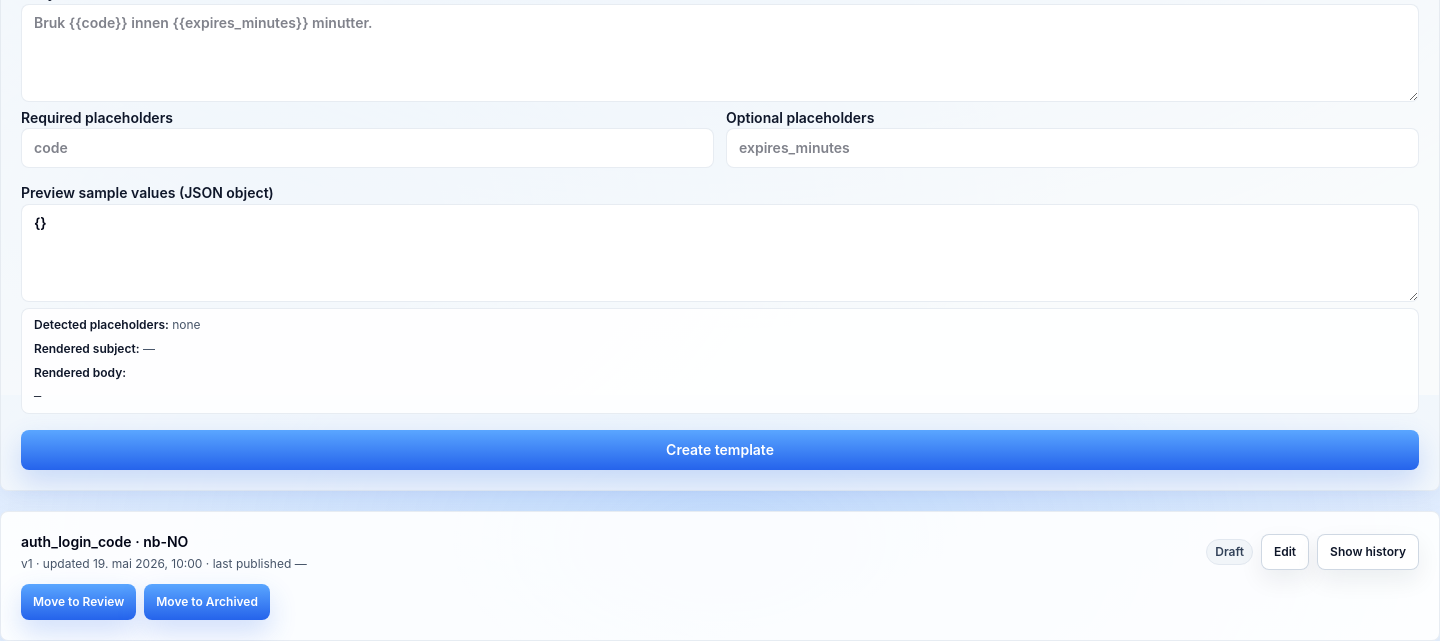
Test case: AdminEmailTemplatesManager state rendering › keeps revision-history error retry wired to the original history loader
The width and height of the screenshot is (1440, 641).
(page scrolled)
Expected: the text "auth_login_code · nb-NO" is shown, [21, 532, 188, 550]
Click the button "Show history".
click(1368, 552)  # box [1317, 534, 1419, 570]
(page scrolled)
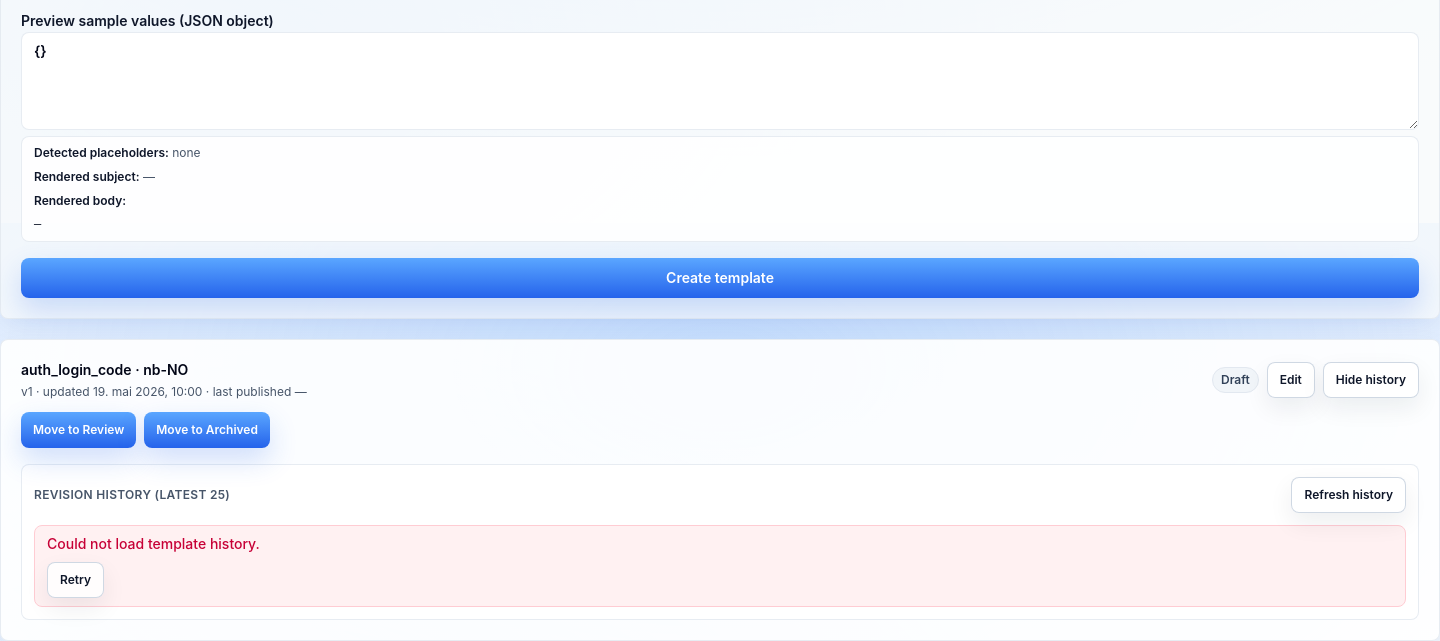
Expected: the message "Could not load template history. Retry" is shown, [34, 524, 1406, 606]
Expected: the message shows "Could not load template history.", [47, 534, 260, 552]
Click the button "Retry".
click(76, 580)  # box [47, 562, 104, 598]
(page scrolled)
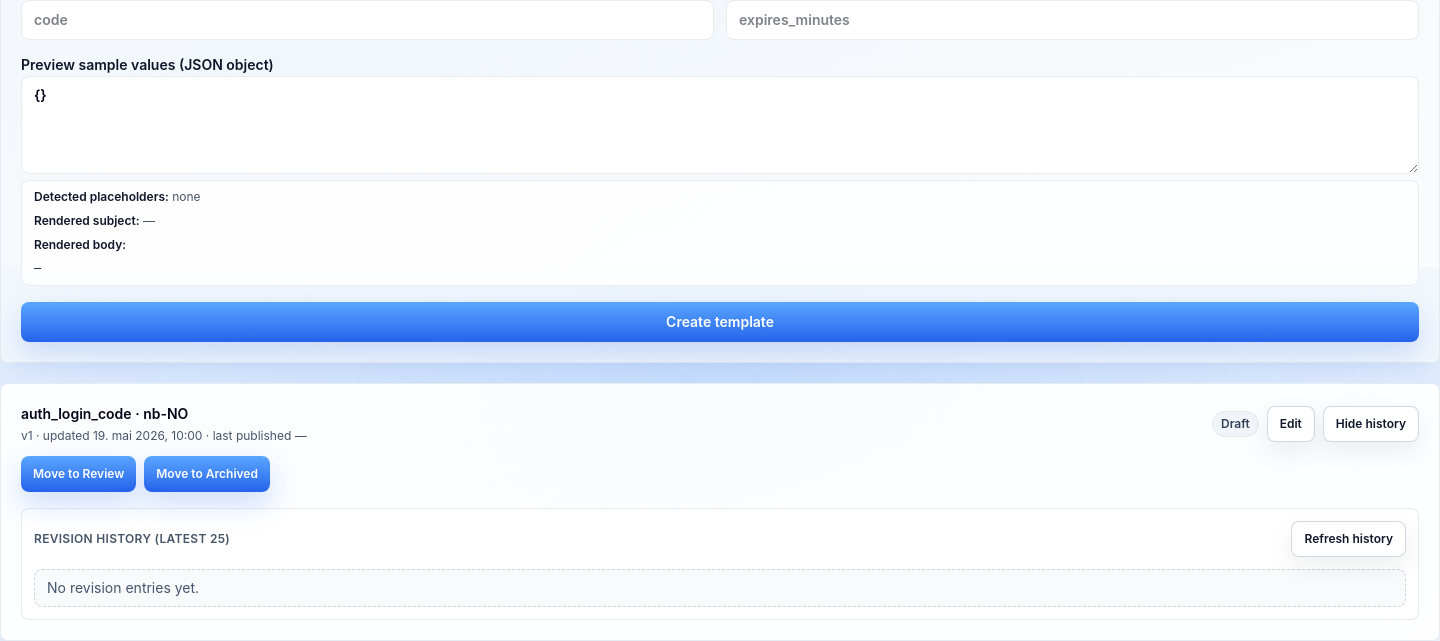
Expected: the text "No revision entries yet." is shown, [47, 578, 199, 596]
